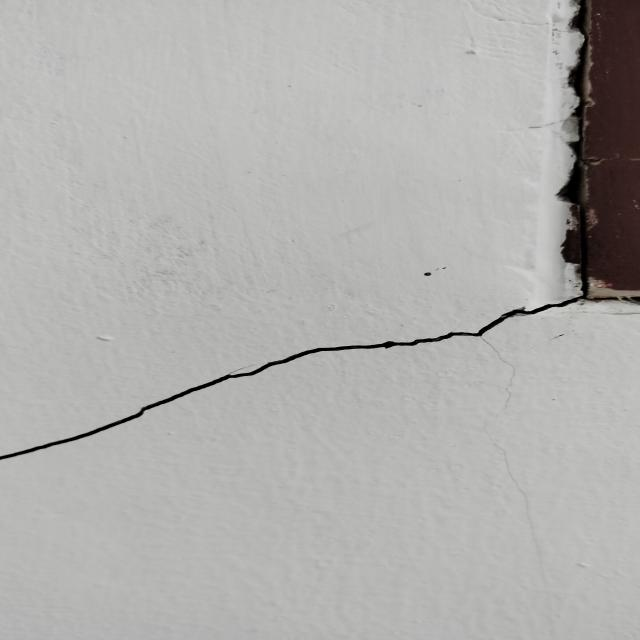Crack: (4, 297, 586, 460)
